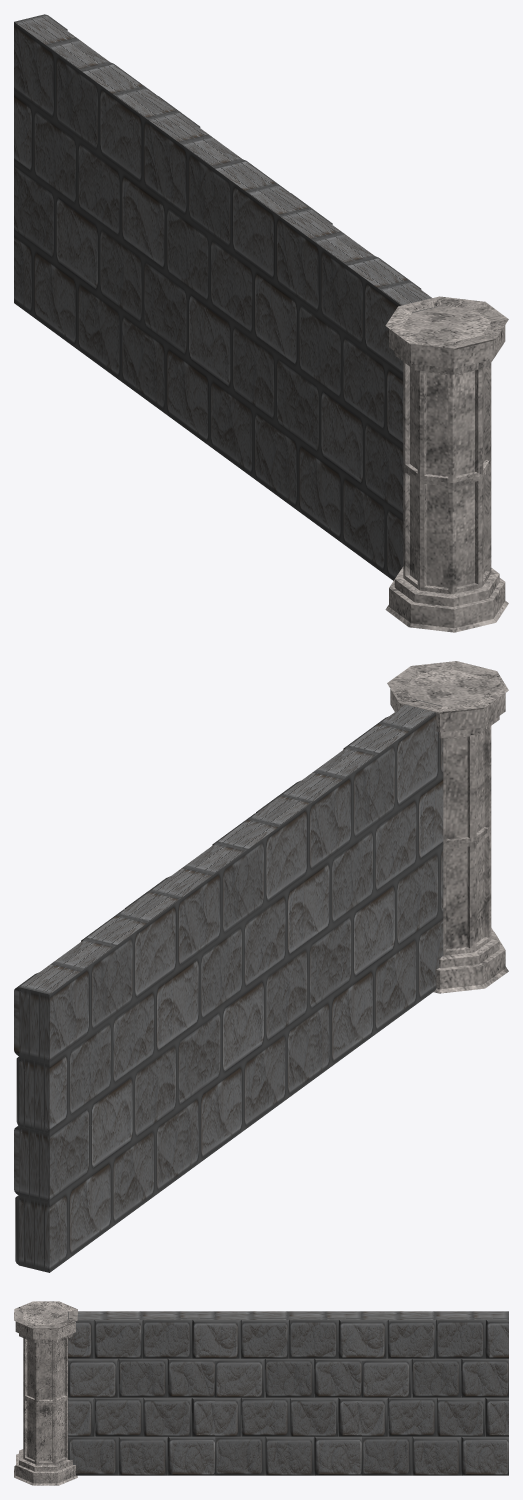
Rendered from wallLong.fbx.
3 views of the same model, one above another, from view 1: azimuth 30°, elevation 25°; view 2: azimuth 150°, elevation 25°; view 3: azimuth 270°, elevation 25° (orthographic). The views are drawn at different scales.
Visible parts, largest first — view 1: wallLong, Pillar; view 2: wallLong, Pillar; view 3: wallLong, Pillar.
Part boxes in pixels (x1,y1,x2,y2): wallLong: [14, 14, 442, 580]; Pillar: [385, 296, 508, 632]; wallLong: [14, 699, 443, 1272]; Pillar: [387, 661, 508, 993]; wallLong: [68, 1311, 508, 1475]; Pillar: [14, 1301, 77, 1485].
Bounding box in the file's own units: 130 × 353 × 1007.
2 materials, 2 textured.
